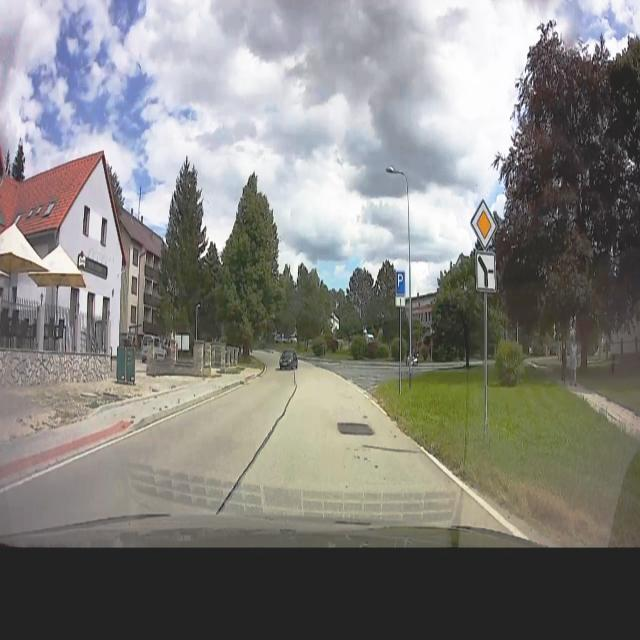Priority road: (468, 195, 499, 249)
